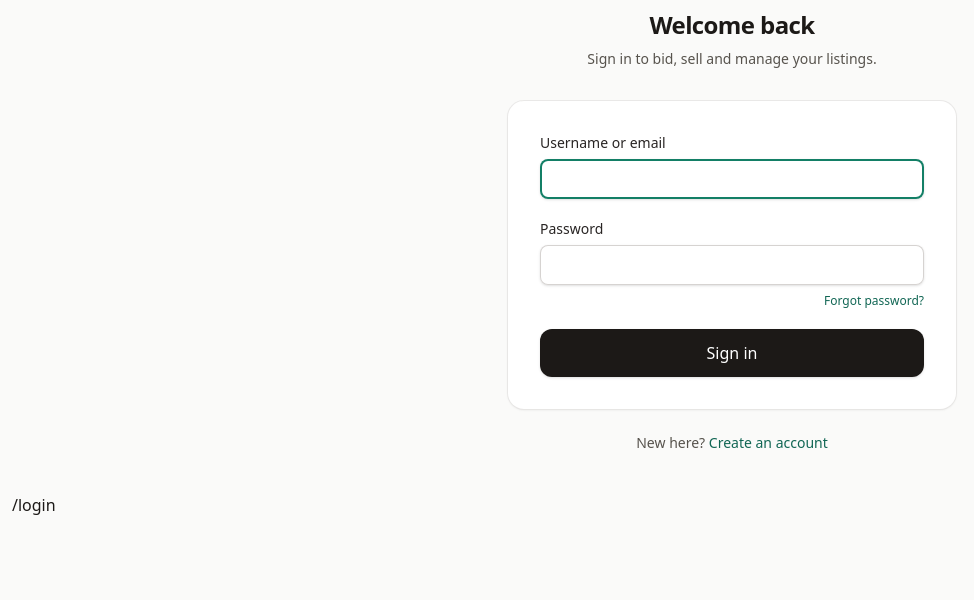
Scenario: LoginPage › shows a clear message for invalid credentials
Type "alice" into the field labelled "Username or email" at [732, 179], box left=540, top=159, right=924, bottom=199
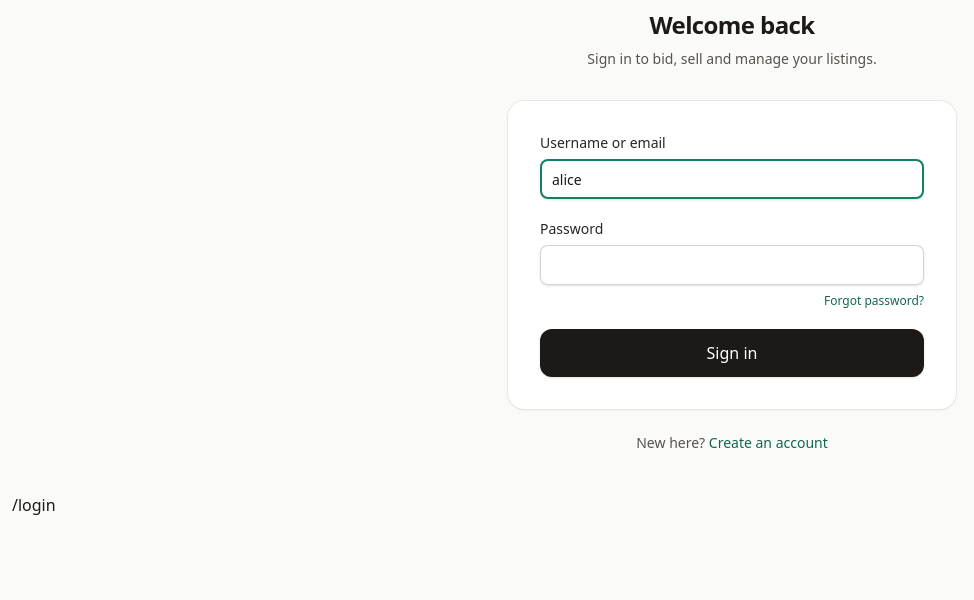
Type "wrong-password" into the password field labelled "Password" at [732, 265], box left=540, top=245, right=924, bottom=285
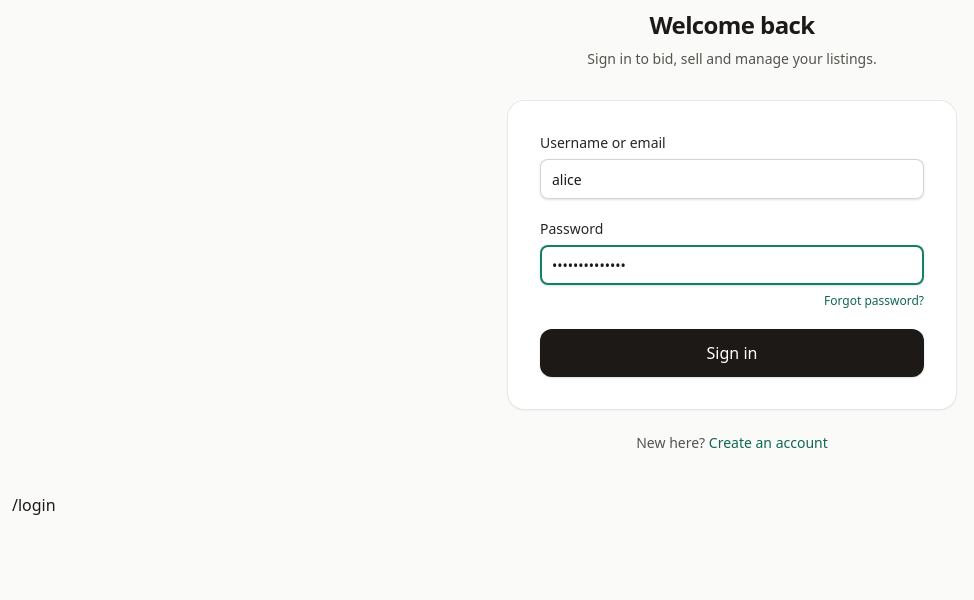
Click the button "Sign in" at [732, 353], box left=540, top=329, right=924, bottom=377
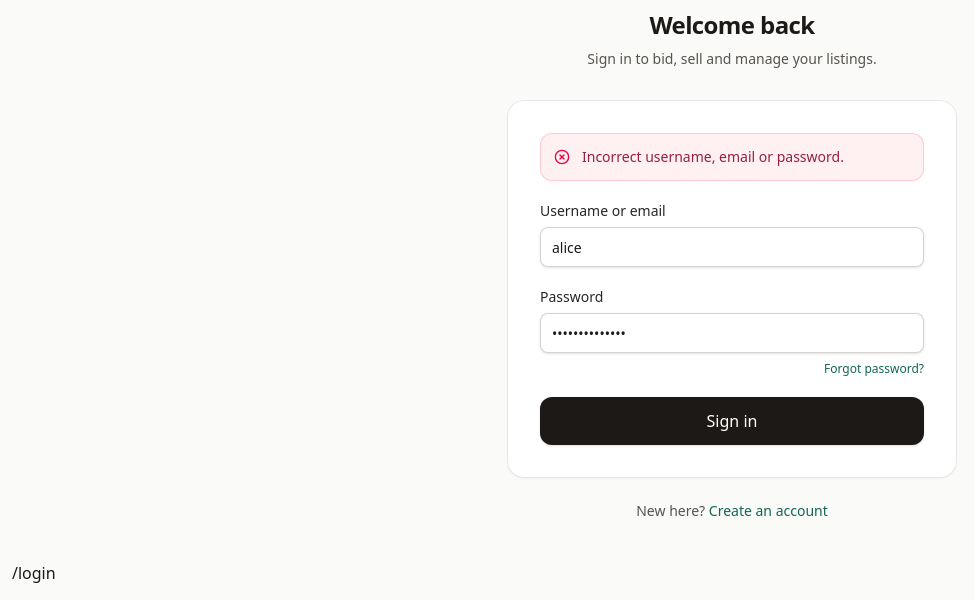
expect the text "Incorrect username, email or password." is shown: met, box left=582, top=147, right=844, bottom=167
